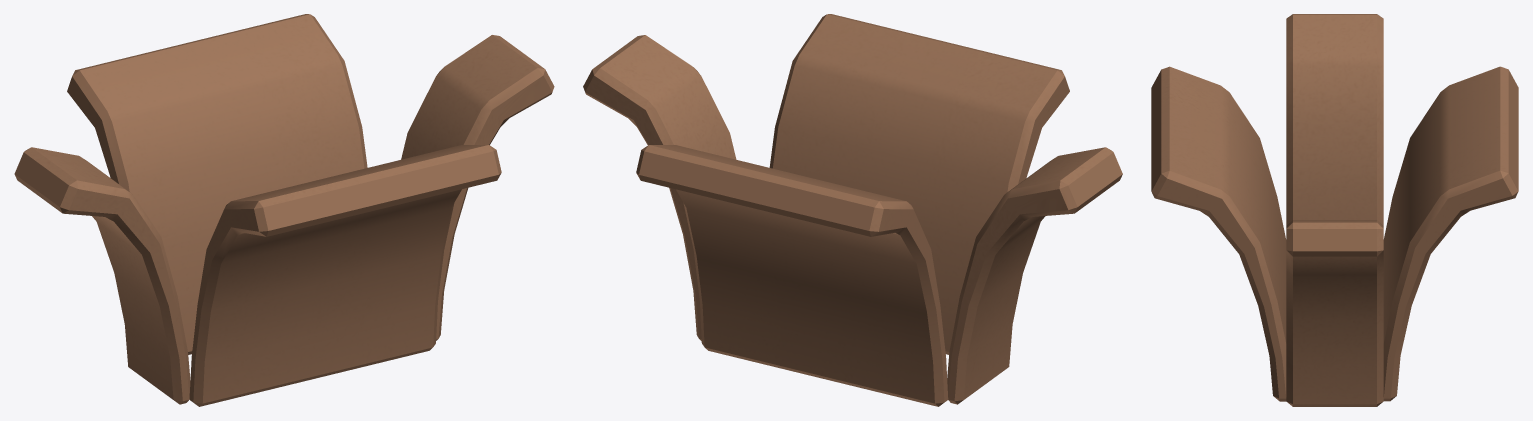
File: wind spout large level 2.fbx
3 views of the same model, side by side, from view 1: azimuth 30°, elevation 25°; view 2: azimuth 150°, elevation 25°; view 3: azimuth 270°, elevation 25° (orthographic). The views are drawn at different scales.
Parts seen in each view (by area): view 1: WindSpoutBig_05, WindSpoutBig_08, WindSpoutBig_03, WindSpoutBig_02, WindSpoutBig_04, WindSpoutBig_06, WindSpoutBig_07, WindSpoutBig_01; view 2: WindSpoutBig_08, WindSpoutBig_05, WindSpoutBig_06, WindSpoutBig_02, WindSpoutBig_07, WindSpoutBig_03, WindSpoutBig_04, WindSpoutBig_01; view 3: WindSpoutBig_02, WindSpoutBig_01, WindSpoutBig_06, WindSpoutBig_03, WindSpoutBig_05, WindSpoutBig_08, WindSpoutBig_07, WindSpoutBig_04.
Boxes of the visible parts, x1,y1,x2,y2 form: WindSpoutBig_05: [189, 182, 345, 406]; WindSpoutBig_08: [67, 51, 214, 354]; WindSpoutBig_03: [353, 145, 501, 369]; WindSpoutBig_02: [14, 147, 190, 404]; WindSpoutBig_04: [277, 163, 421, 387]; WindSpoutBig_06: [228, 14, 367, 187]; WindSpoutBig_07: [153, 33, 286, 230]; WindSpoutBig_01: [401, 35, 554, 340]; WindSpoutBig_08: [792, 182, 948, 406]; WindSpoutBig_05: [922, 51, 1069, 354]; WindSpoutBig_06: [636, 145, 785, 369]; WindSpoutBig_02: [947, 147, 1122, 404]; WindSpoutBig_07: [716, 164, 860, 387]; WindSpoutBig_03: [769, 14, 907, 187]; WindSpoutBig_04: [850, 32, 983, 228]; WindSpoutBig_01: [583, 35, 736, 340]; WindSpoutBig_02: [1286, 14, 1383, 225]; WindSpoutBig_01: [1286, 220, 1383, 406]; WindSpoutBig_06: [1383, 135, 1518, 401]; WindSpoutBig_03: [1151, 136, 1286, 401]; WindSpoutBig_05: [1151, 66, 1286, 274]; WindSpoutBig_08: [1383, 66, 1518, 273]; WindSpoutBig_07: [1383, 101, 1518, 307]; WindSpoutBig_04: [1151, 101, 1286, 308].
Bounding box in the file's own units: 0.6871 × 0.331 × 0.4771.
1 material, 1 textured.
